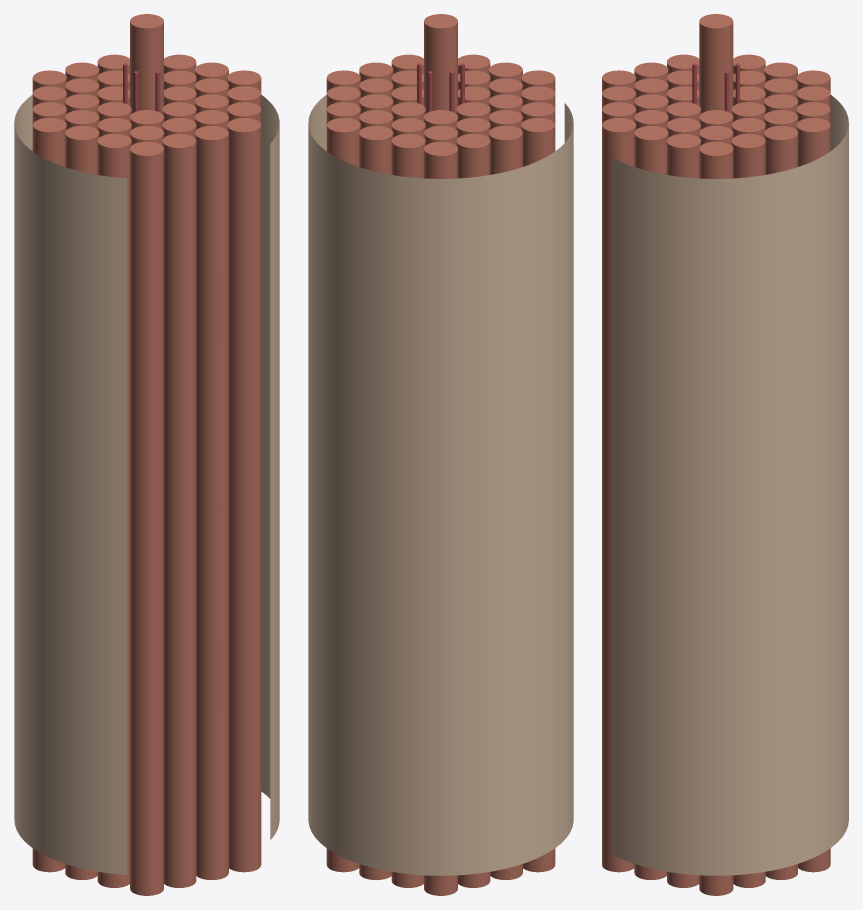
The model's file is fascicle-detail.glb.
The picture shows the model from 3 angles, left to right: view 1: azimuth 30°, elevation 25°; view 2: azimuth 150°, elevation 25°; view 3: azimuth 270°, elevation 25°; orthographic projection.
Parts seen in each view (by area): view 1: pilot-perimysium, pilot-fiber-33, pilot-fiber-25, pilot-fiber-35, pilot-fiber-27, pilot-fiber-23, pilot-fiber-00, pilot-fiber-31, pilot-fiber-21, pilot-fascicle-capillaries, pilot-fiber-32, pilot-fiber-20 (+18 smaller); view 2: pilot-perimysium, pilot-fiber-00, pilot-fiber-32, pilot-fiber-34, pilot-fiber-22, pilot-fiber-31, pilot-fiber-20, pilot-fiber-24, pilot-fiber-19, pilot-fascicle-capillaries, pilot-fiber-28, pilot-fiber-36 (+18 smaller); view 3: pilot-perimysium, pilot-fiber-35, pilot-fiber-00, pilot-fiber-36, pilot-fiber-28, pilot-fiber-34, pilot-fiber-29, pilot-fiber-26, pilot-fiber-30, pilot-fascicle-capillaries, pilot-fiber-22, pilot-fiber-32 (+19 smaller).
Part boxes in pixels (x1,y1,x2,y2): pilot-perimysium: (14, 95, 279, 874); pilot-fiber-33: (130, 141, 163, 895); pilot-fiber-25: (162, 133, 196, 887); pilot-fiber-35: (227, 118, 261, 872); pilot-fiber-27: (195, 125, 228, 879); pilot-fiber-23: (97, 133, 131, 887); pilot-fiber-00: (130, 14, 163, 113); pilot-fiber-31: (32, 118, 66, 872); pilot-fiber-21: (65, 125, 99, 880); pilot-fascicle-capillaries: (123, 63, 160, 112); pilot-fiber-32: (32, 70, 66, 92); pilot-fiber-20: (32, 86, 66, 108); pilot-perimysium: (308, 95, 573, 875); pilot-fiber-00: (424, 14, 457, 113); pilot-fiber-32: (424, 141, 457, 895); pilot-fiber-34: (326, 118, 360, 872); pilot-fiber-22: (391, 133, 425, 887); pilot-fiber-31: (521, 118, 555, 872); pilot-fiber-20: (456, 133, 490, 887); pilot-fiber-24: (359, 125, 393, 880); pilot-fiber-19: (489, 125, 522, 879); pilot-fascicle-capillaries: (417, 63, 464, 112); pilot-fiber-28: (326, 86, 360, 108); pilot-fiber-36: (326, 70, 360, 92); pilot-perimysium: (612, 95, 848, 875); pilot-fiber-35: (602, 118, 635, 872); pilot-fiber-00: (699, 14, 733, 113); pilot-fiber-36: (699, 141, 733, 895); pilot-fiber-28: (731, 133, 765, 887); pilot-fiber-34: (796, 118, 830, 872); pilot-fiber-29: (634, 125, 668, 880); pilot-fiber-26: (764, 125, 797, 879); pilot-fiber-30: (667, 133, 700, 887); pilot-fascicle-capillaries: (692, 63, 739, 112); pilot-fiber-22: (796, 86, 830, 108); pilot-fiber-32: (796, 70, 830, 92).
Size of the model in its own units: 0.00039 by 0.00139 by 0.000363.
